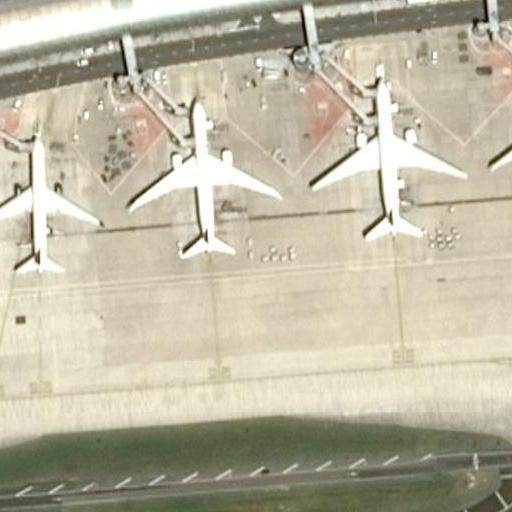Aircraft: (307, 72, 464, 244), (123, 96, 284, 259), (0, 125, 103, 277), (485, 36, 512, 233)
